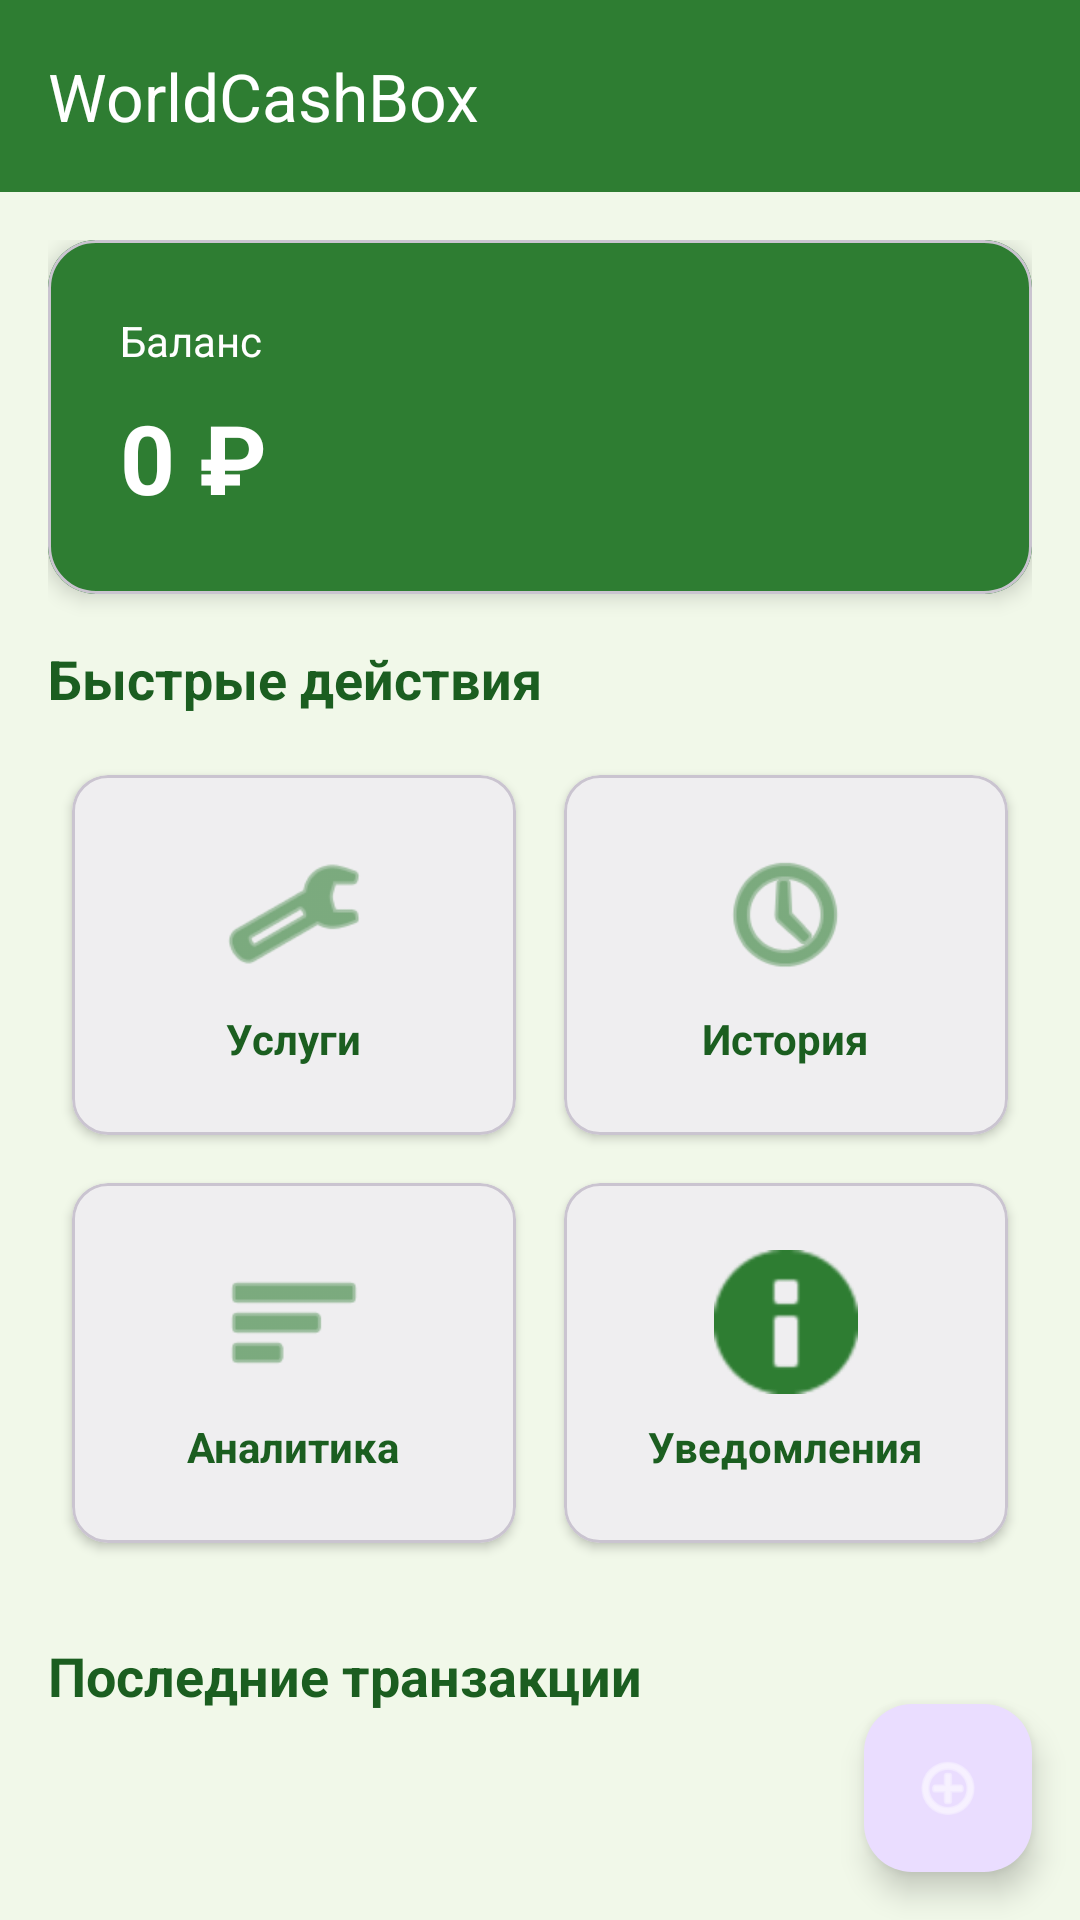

Locate icon controls on the screen. Image size 1080 × 1920, boxes as box(x1, y1, x2, y2).
add: box(864, 1704, 1032, 1872)
info: box(714, 1250, 858, 1394)
manage: box(229, 864, 359, 964)
recent history: box(733, 863, 837, 967)
sort by size: box(232, 1282, 356, 1363)
